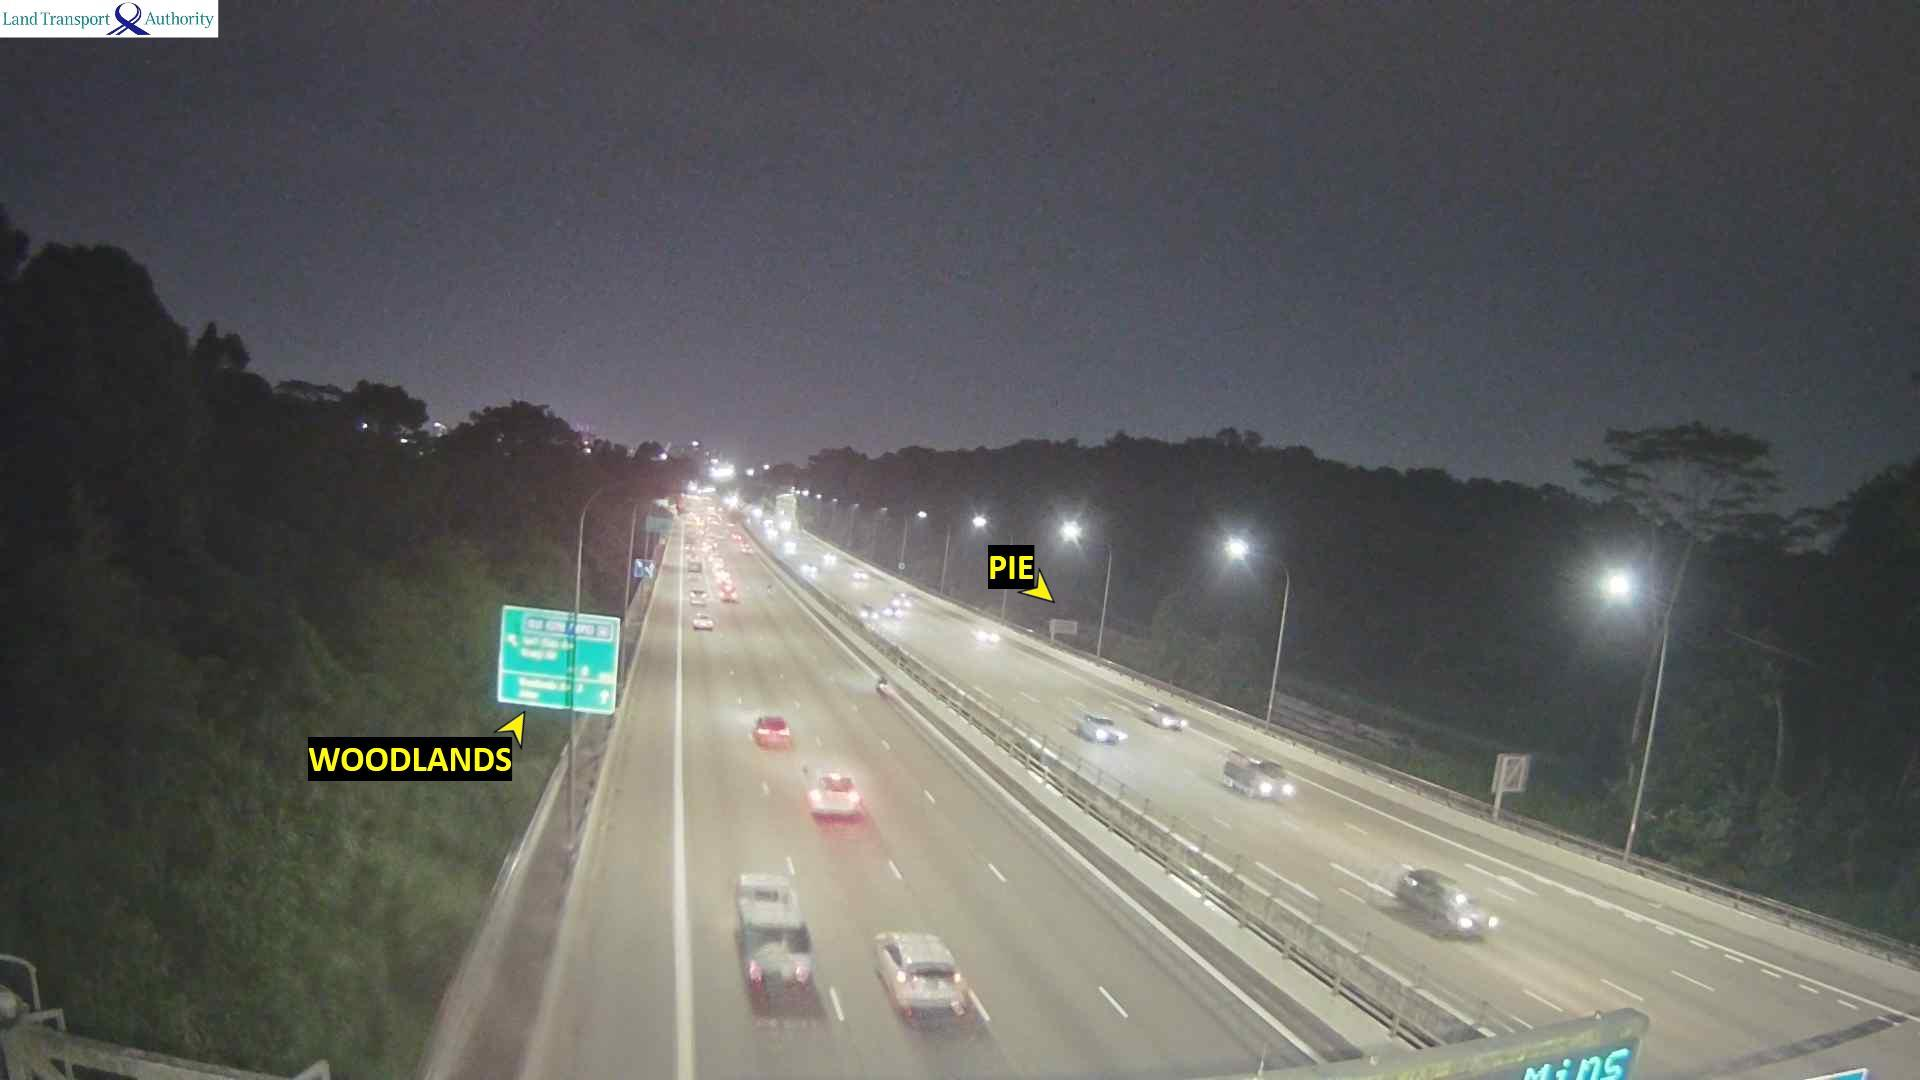incoming: (1451, 885, 1501, 939), (1258, 761, 1300, 806), (1093, 719, 1129, 745), (1160, 707, 1187, 735), (894, 592, 911, 608), (862, 604, 878, 620), (853, 570, 870, 582)
